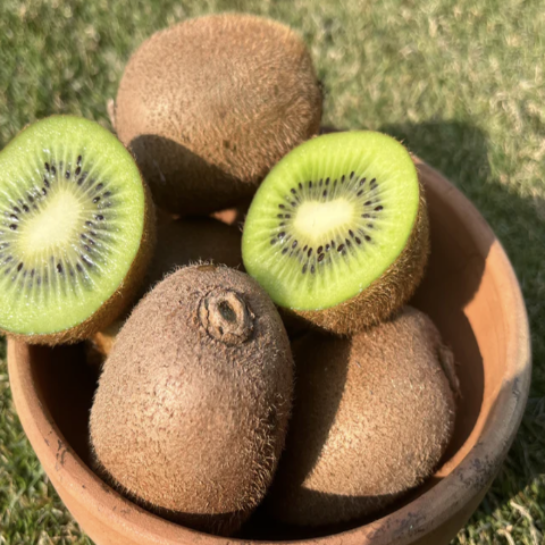kiwi: (81, 219, 306, 543), (93, 7, 328, 223)
